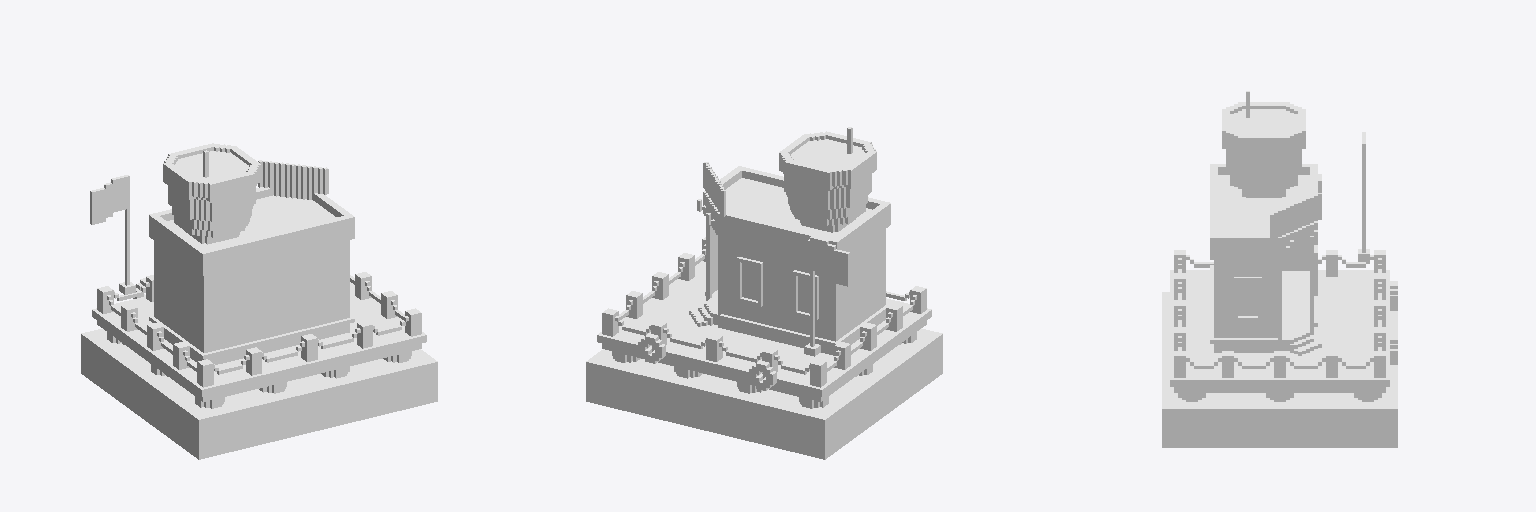
Rendered from DODO.obj.
3 views of the same model, side by side, from view 1: azimuth 30°, elevation 25°; view 2: azimuth 150°, elevation 25°; view 3: azimuth 270°, elevation 25° (orthographic).
Parts seen in each view (by area): view 1: object 1; view 2: object 1; view 3: object 1.
Boxes of the visible parts, x1,y1,x2,y2 form: object 1: [81, 143, 437, 459]; object 1: [586, 127, 942, 459]; object 1: [1162, 91, 1397, 447].
Bounding box in the file's own units: 7.1 × 7.3 × 5.9.